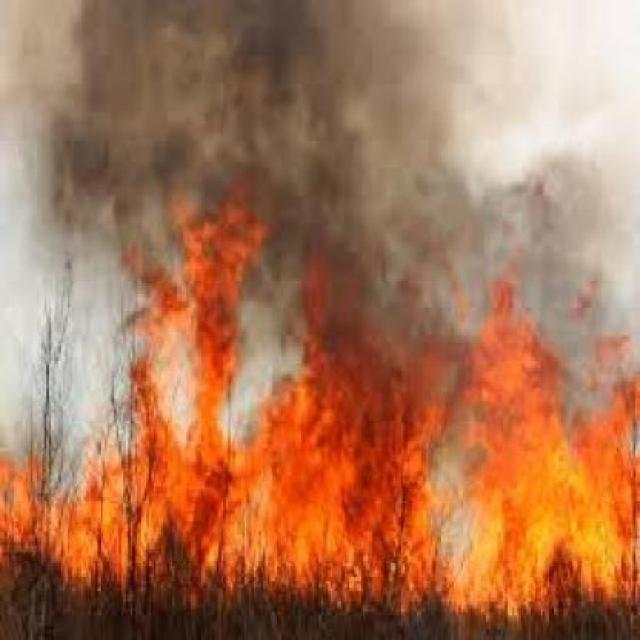Fire: (0, 341, 640, 640)
Smoke: (77, 0, 594, 250)
